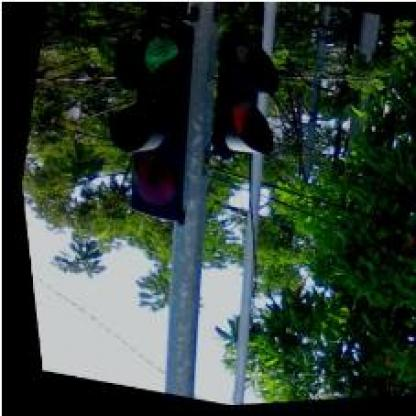green: (68, 10, 222, 232)
